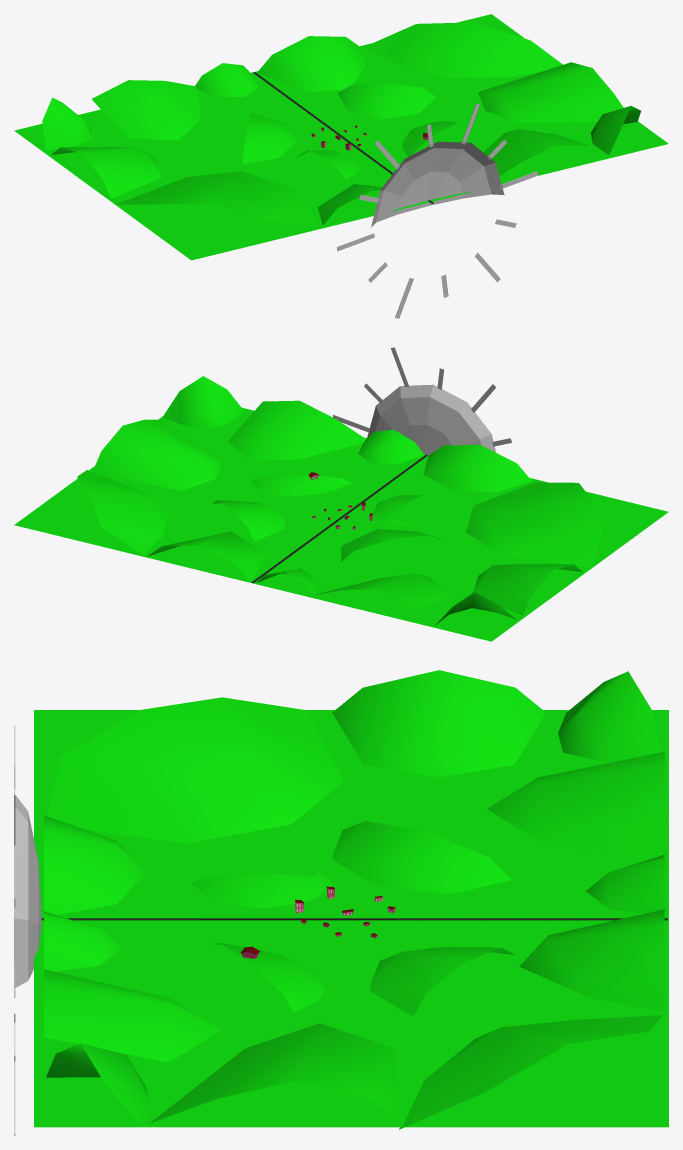
The model's file is ENVI_cartoon_world.obj.
The picture shows the model from 3 angles, top to bottom: view 1: azimuth 30°, elevation 25°; view 2: azimuth 150°, elevation 25°; view 3: azimuth 270°, elevation 25°; orthographic projection. The views are drawn at different scales.
Parts seen in each view (by area): view 1: Hills, Grass, Sun, SunRays; view 2: Hills, Grass, Sun, SunRays; view 3: Hills, Grass, Sun, Building.
Part boxes in pixels (box(x1,y1,x2,y2)): Hills: box(42, 22, 640, 226); Grass: box(14, 14, 668, 260); Sun: box(371, 141, 504, 227); SunRays: box(337, 103, 538, 318); Hills: box(77, 376, 602, 625); Grass: box(14, 407, 668, 641); Sun: box(367, 384, 495, 455); SunRays: box(333, 347, 512, 446); Hills: box(44, 670, 664, 1129); Grass: box(34, 710, 668, 1127); Sun: box(14, 793, 41, 988); Building: box(241, 886, 395, 958).
Bounding box in the file's own units: 495 × 193 × 326.
Materials: 6 (3 with a texture image).
